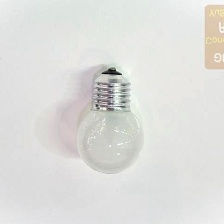light_bulb: (71, 63, 149, 178)
